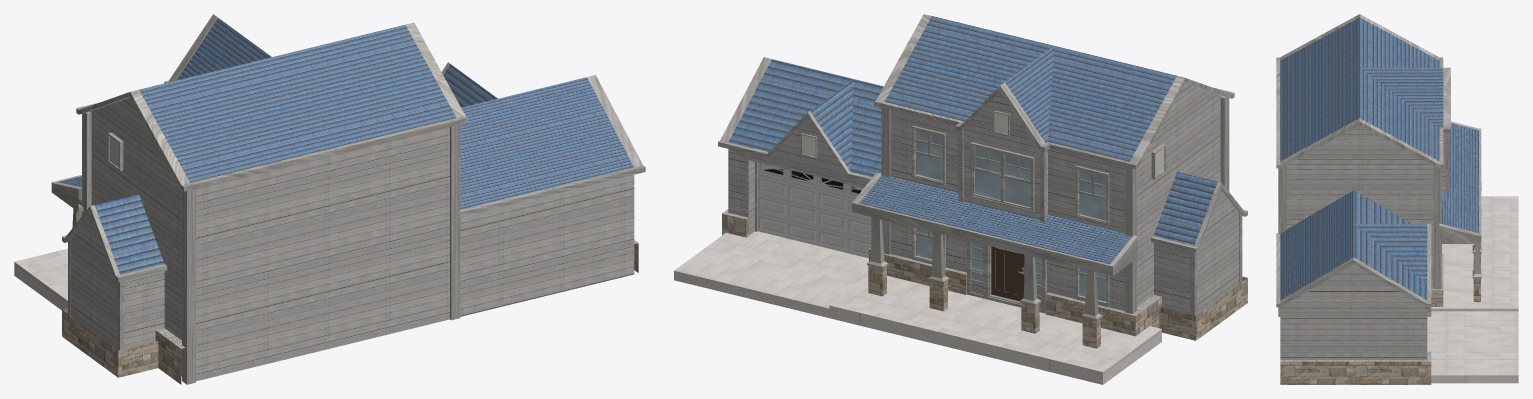
The model's file is house final2.fbx.
3 views of the same model, side by side, from view 1: azimuth 30°, elevation 25°; view 2: azimuth 150°, elevation 25°; view 3: azimuth 270°, elevation 25° (orthographic). The views are drawn at different scales.
Visible parts, largest first — view 1: wood, roof2, outline, stoneDec, pavement; view 2: roof2, wood, outline, pavement, stoneDec, garagedoor, glass, door; view 3: roof2, wood, pavement, outline, stoneDec.
Boxes of the visible parts, x1=… form: wood: x1=71, y1=97, x2=634, y2=381; roof2: x1=58, y1=18, x2=633, y2=274; outline: x1=51, y1=14, x2=645, y2=384; stoneDec: x1=62, y1=243, x2=638, y2=384; pavement: x1=14, y1=248, x2=67, y2=310; roof2: x1=728, y1=16, x2=1217, y2=264; wood: x1=728, y1=83, x2=1239, y2=314; outline: x1=718, y1=14, x2=1247, y2=321; pavement: x1=674, y1=231, x2=1161, y2=384; stoneDec: x1=722, y1=213, x2=1247, y2=348; garagedoor: x1=758, y1=162, x2=871, y2=258; glass: x1=916, y1=131, x2=1106, y2=301; door: x1=991, y1=246, x2=1024, y2=301; roof2: x1=1280, y1=17, x2=1478, y2=300; wood: x1=1280, y1=125, x2=1445, y2=359; pavement: x1=1427, y1=196, x2=1518, y2=383; outline: x1=1276, y1=14, x2=1481, y2=361; stoneDec: x1=1280, y1=253, x2=1480, y2=384.
Bounding box in the file's own units: 1130 × 550 × 610.
